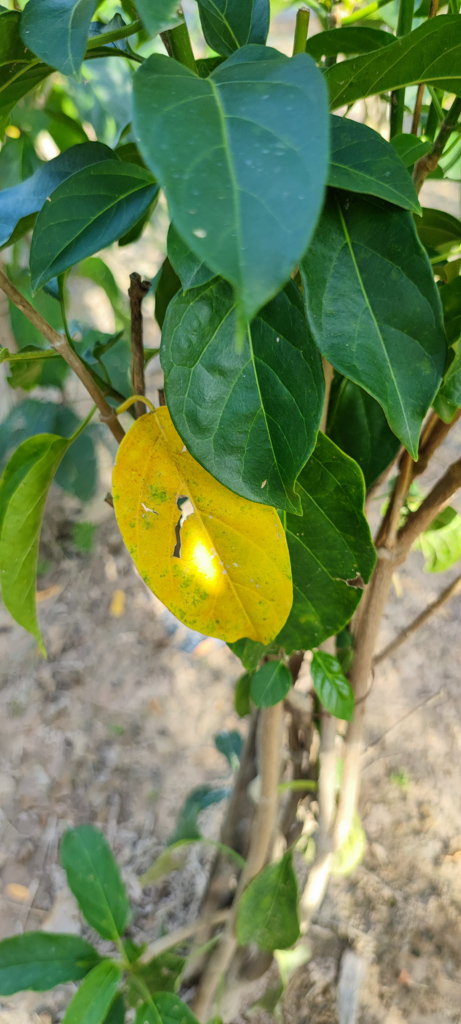Pepper yellow leaf: (107, 395, 299, 642)
